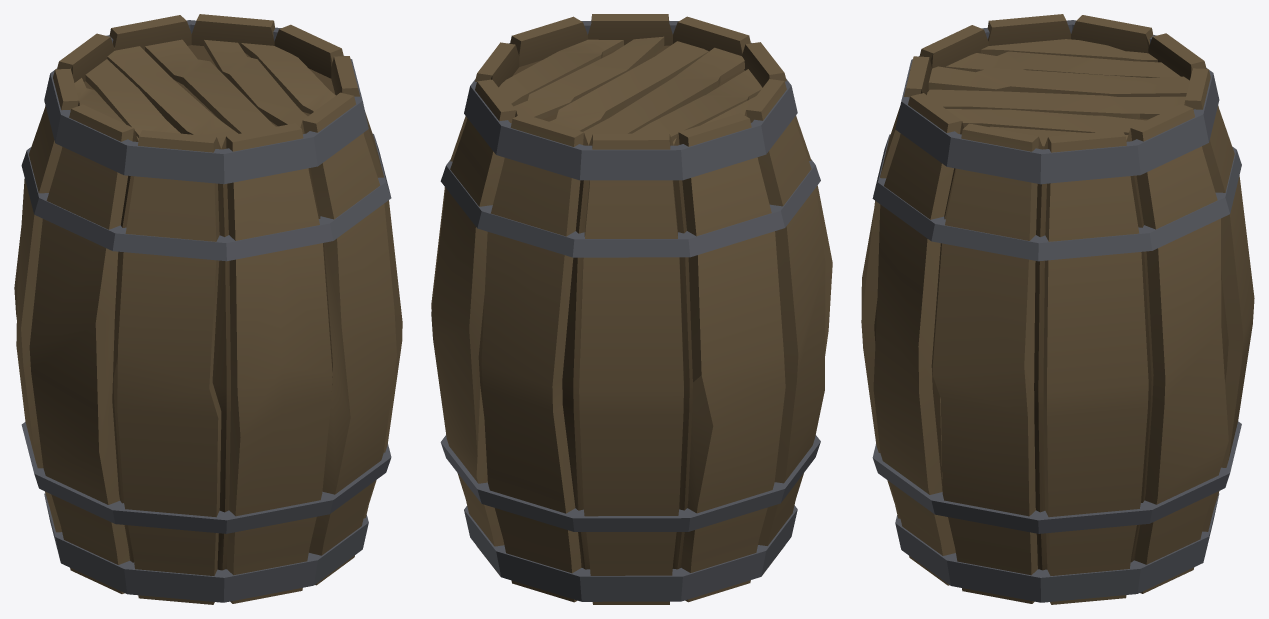
File: Barrel.glb
3 views of the same model, side by side, from view 1: azimuth 30°, elevation 25°; view 2: azimuth 150°, elevation 25°; view 3: azimuth 270°, elevation 25° (orthographic).
Visible parts, largest first — view 1: Barrel; view 2: Barrel; view 3: Barrel.
Part boxes in pixels (<box>): Barrel: <box>14,14,402,604</box>; Barrel: <box>431,14,832,604</box>; Barrel: <box>861,14,1254,604</box>.
Size of the model in its own units: 0.8314 by 1.07 by 0.8241.
